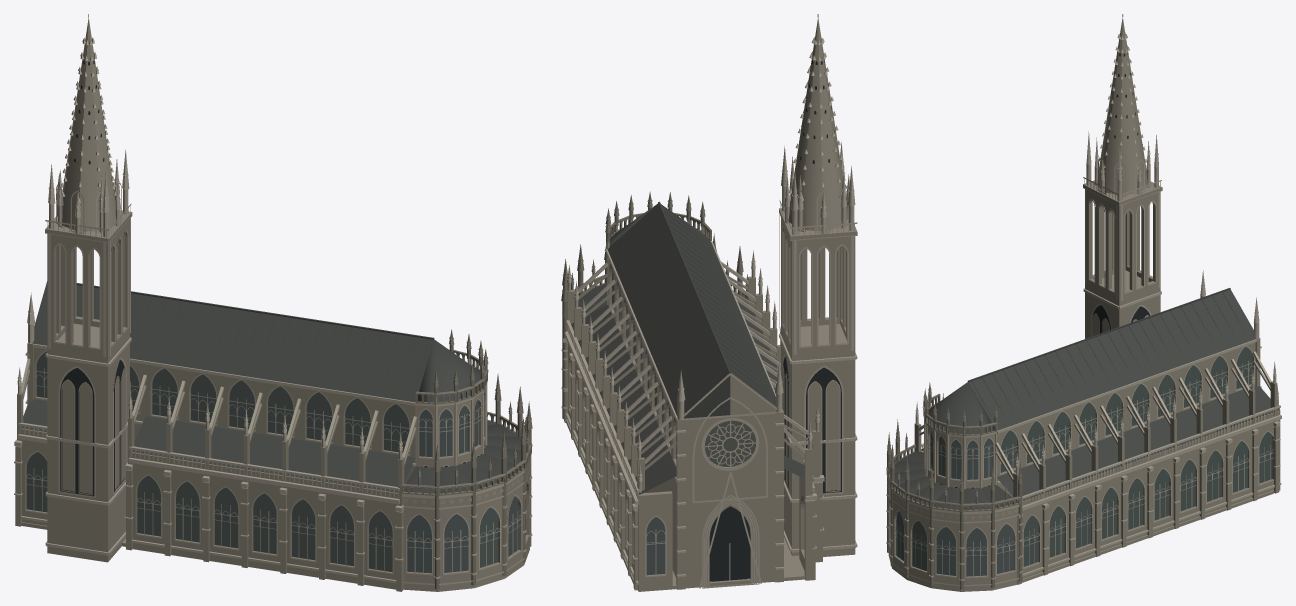
Rendered from eglise-saint-pierre-caen-near.glb.
The picture shows the model from 3 angles, left to right: view 1: azimuth 30°, elevation 25°; view 2: azimuth 150°, elevation 25°; view 3: azimuth 270°, elevation 25°; orthographic projection. The views are drawn at different scales.
Visible parts, largest first — view 1: eglise-saint-pierre-caen-0-stone, eglise-saint-pierre-caen-0-roof, eglise-saint-pierre-caen-0-trim, eglise-saint-pierre-caen-0-glass, eglise-saint-pierre-caen-0-ornament, eglise-saint-pierre-caen-0-recess; view 2: eglise-saint-pierre-caen-0-stone, eglise-saint-pierre-caen-0-trim, eglise-saint-pierre-caen-0-roof, eglise-saint-pierre-caen-0-recess, eglise-saint-pierre-caen-0-ornament, eglise-saint-pierre-caen-0-glass, eglise-saint-pierre-caen-0-glow; view 3: eglise-saint-pierre-caen-0-stone, eglise-saint-pierre-caen-0-roof, eglise-saint-pierre-caen-0-trim, eglise-saint-pierre-caen-0-glass, eglise-saint-pierre-caen-0-ornament.
Boxes of the visible parts, x1,y1,x2,y2 form: eglise-saint-pierre-caen-0-stone: (15,18,529,591); eglise-saint-pierre-caen-0-roof: (21,281,526,493); eglise-saint-pierre-caen-0-trim: (14,14,532,585); eglise-saint-pierre-caen-0-glass: (26,351,525,573); eglise-saint-pierre-caen-0-ornament: (402,329,532,589); eglise-saint-pierre-caen-0-recess: (60,61,484,496); eglise-saint-pierre-caen-0-stone: (564,18,857,591); eglise-saint-pierre-caen-0-trim: (561,14,857,588); eglise-saint-pierre-caen-0-roof: (571,201,804,494); eglise-saint-pierre-caen-0-recess: (709,60,841,581); eglise-saint-pierre-caen-0-ornament: (561,191,747,419); eglise-saint-pierre-caen-0-glass: (612,268,676,575); eglise-saint-pierre-caen-0-glow: (704,420,755,466); eglise-saint-pierre-caen-0-stone: (888,17,1280,591); eglise-saint-pierre-caen-0-roof: (894,288,1278,510); eglise-saint-pierre-caen-0-trim: (886,14,1281,586); eglise-saint-pierre-caen-0-glass: (896,346,1272,576); eglise-saint-pierre-caen-0-ornament: (886,382,1022,589).
Size of the model in its own units: 56.11 by 75 by 60.93.
